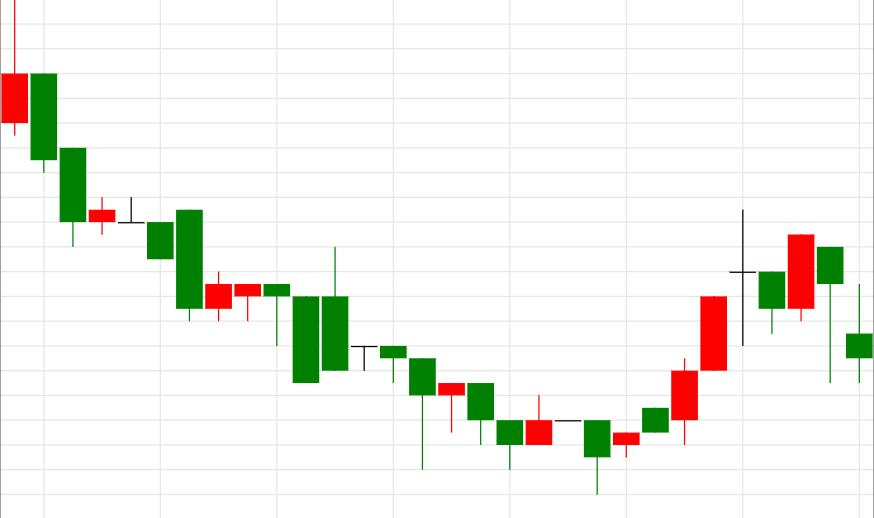evening_star_fall: (583, 210, 785, 495)
hammer_rise: (175, 210, 435, 469)
